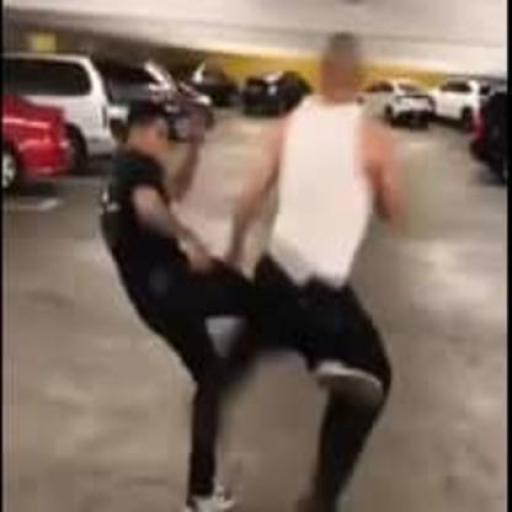Fighting: (94, 33, 397, 512)
